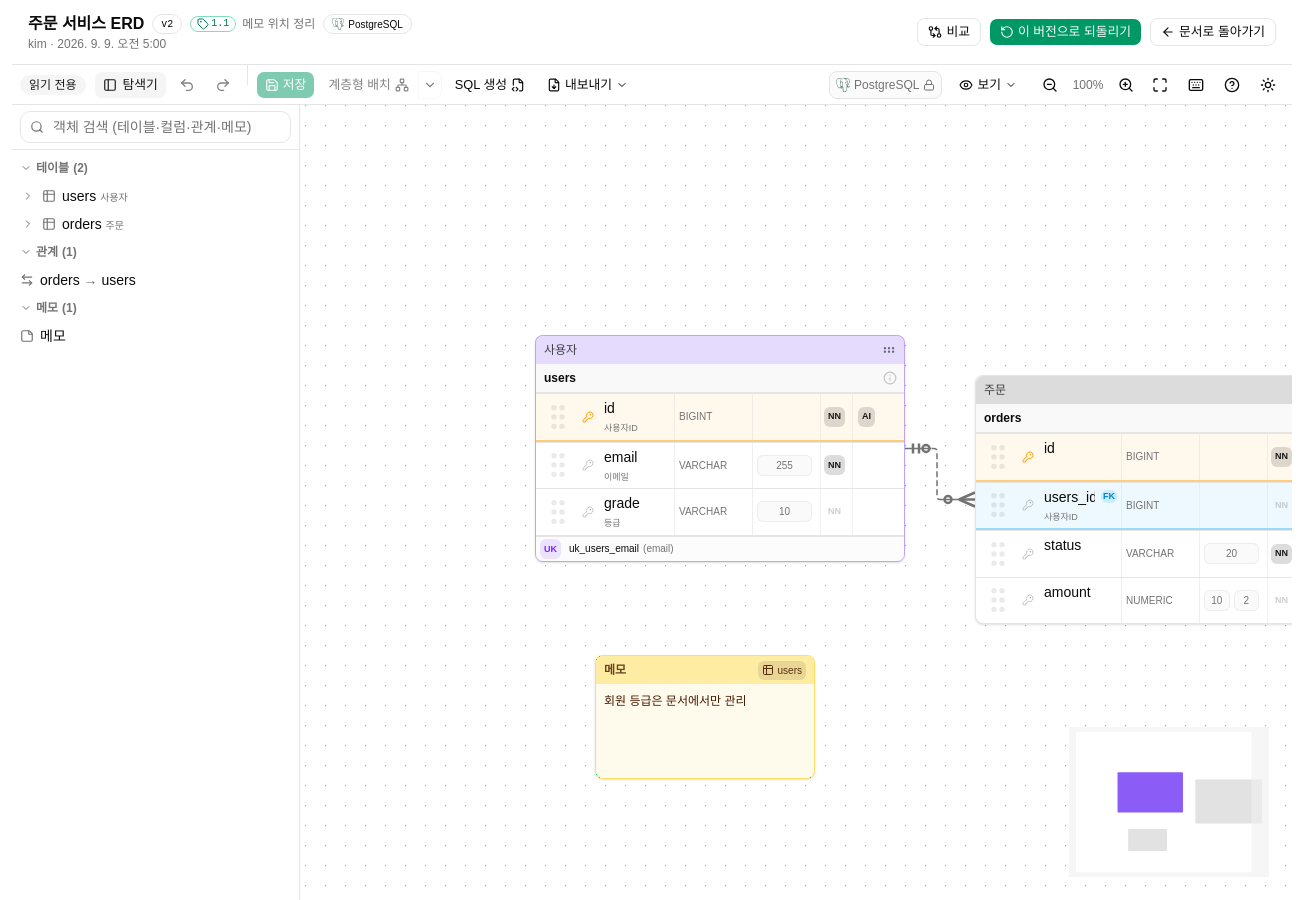
Test: 버전 기록 뷰어 — 비교 모드 (?compare=N) › 비교 진입 — 일반 뷰어의 [비교] 버튼으로 직전 버전과 비교한다
Click the button with test id "compare-enter" at (949, 32), box [917, 18, 981, 46]
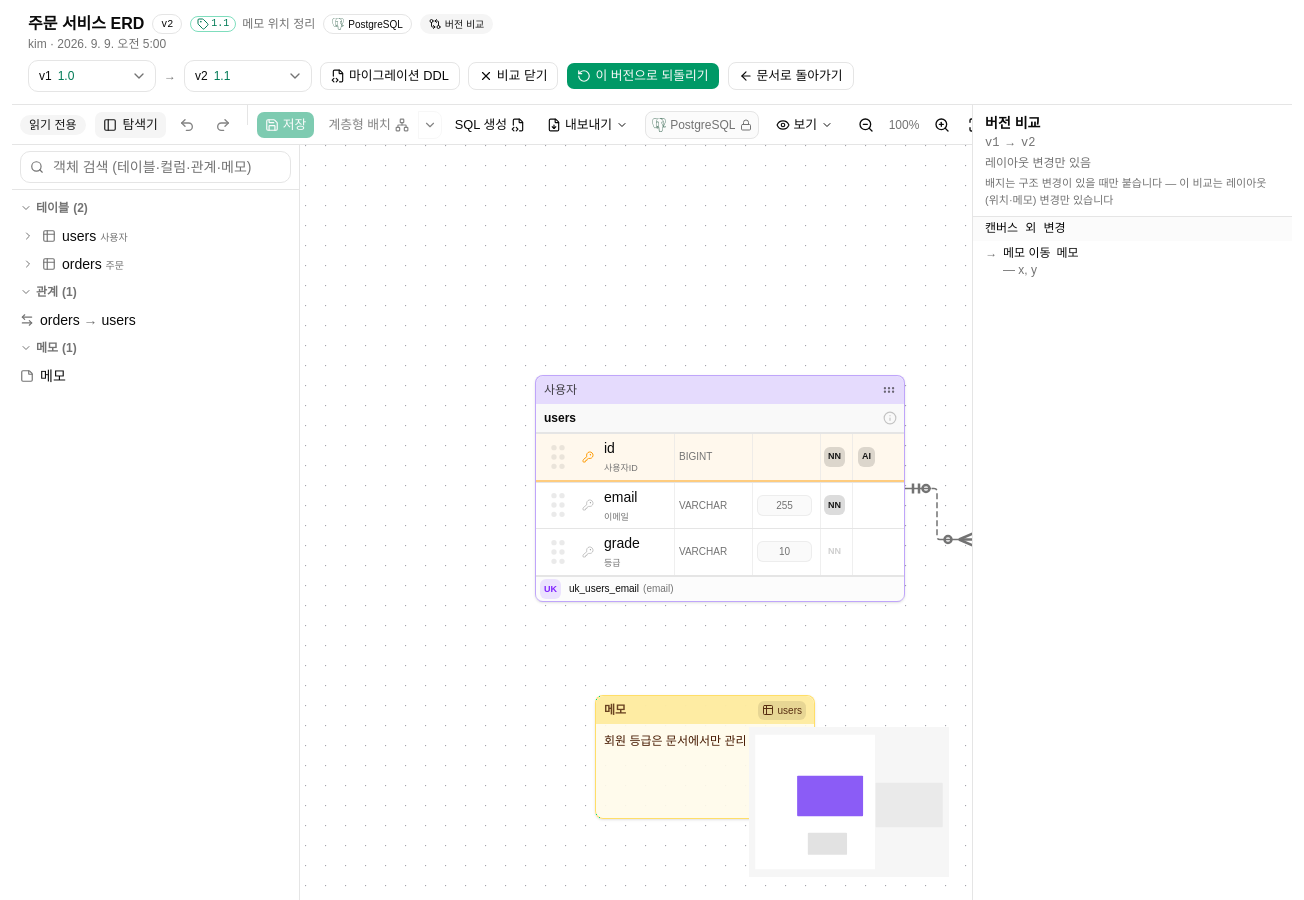
Expected: the text "v1 → v2" is shown, [985, 136, 1035, 150]
